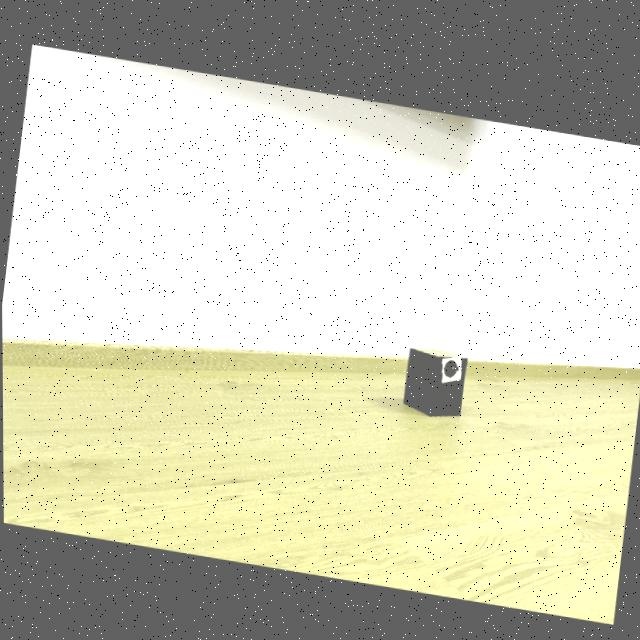CIRCLE: (443, 355, 457, 373)
